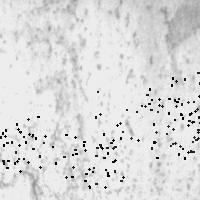pitted_surface: (5, 7, 197, 199), (95, 88, 153, 147), (63, 134, 122, 186), (0, 116, 55, 170), (153, 98, 200, 157), (171, 72, 200, 132)
